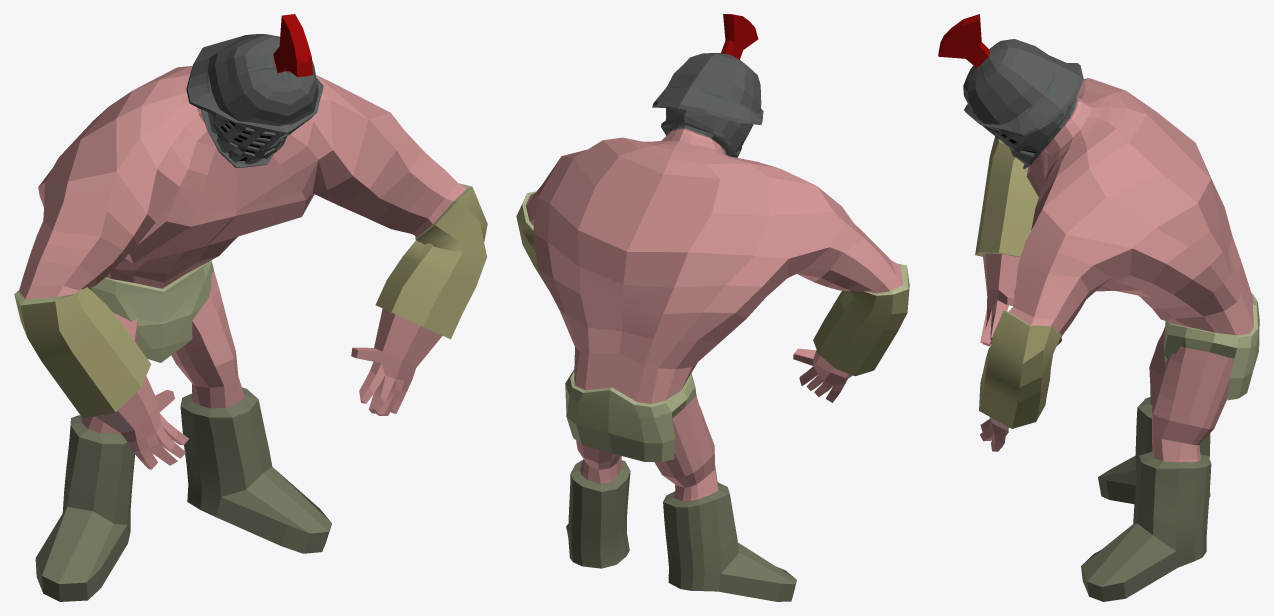
The model's file is GladiatorCelebracion_000499.obj.
The picture shows the model from 3 angles, left to right: view 1: azimuth 30°, elevation 25°; view 2: azimuth 150°, elevation 25°; view 3: azimuth 270°, elevation 25°; orthographic projection. The views are drawn at different scales.
Visible parts, largest first — view 1: Gadiador_Gladiador_H; view 2: Gadiador_Gladiador_H; view 3: Gadiador_Gladiador_H.
Boxes of the visible parts, x1,y1,x2,y2 form: Gadiador_Gladiador_H: (14,14,487,601); Gadiador_Gladiador_H: (516,14,909,601); Gadiador_Gladiador_H: (938,14,1259,601).
Bounding box in the file's own units: 5.21 × 6.48 × 3.5.
Materials: 1 (1 with a texture image).
